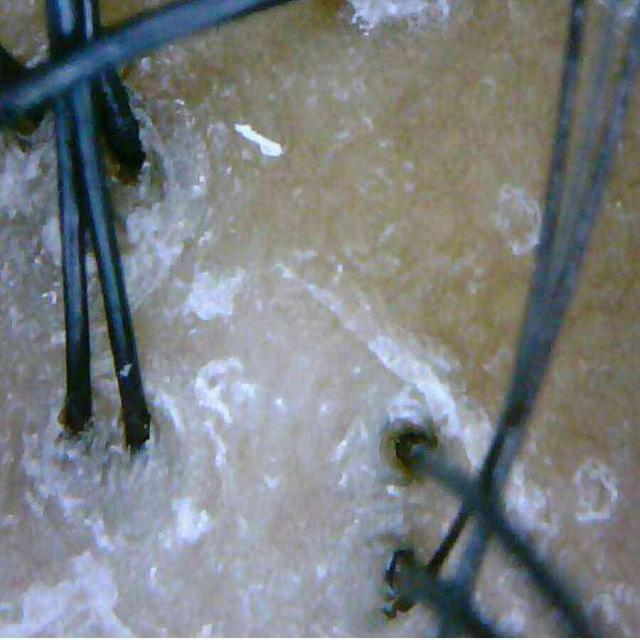d: (235, 123, 284, 157)
ds: (275, 249, 460, 437), (124, 80, 213, 257), (0, 550, 131, 638), (16, 400, 110, 510), (1, 226, 68, 356), (121, 205, 181, 315), (194, 358, 256, 426), (0, 144, 56, 216), (520, 462, 560, 548), (495, 183, 541, 256), (351, 0, 450, 33), (184, 268, 245, 320), (158, 498, 215, 550), (574, 460, 618, 523), (459, 398, 492, 462), (37, 210, 64, 276)
